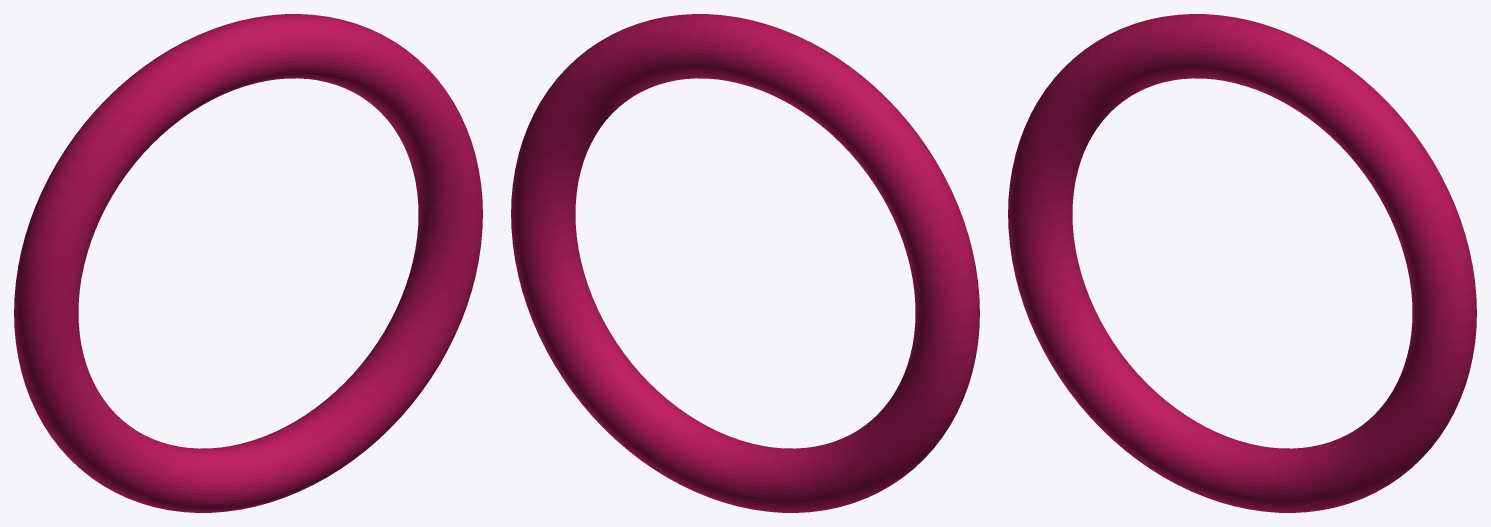
3 renders of one model, left to right at view 1: azimuth 30°, elevation 25°; view 2: azimuth 150°, elevation 25°; view 3: azimuth 330°, elevation 25°, orthographic.
Parts seen in each view (by area): view 1: world; view 2: world; view 3: world.
Boxes of the visible parts, left/top/right/bottom form: world: left=14, top=14, right=482, bottom=512; world: left=511, top=14, right=979, bottom=512; world: left=1008, top=14, right=1476, bottom=512.
Bounding box in the file's own units: 31.87 × 31.87 × 3.86.
